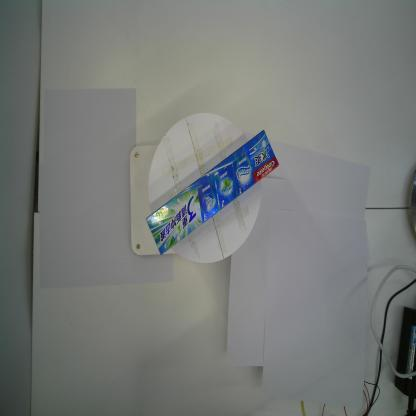Personal Hygiene: (144, 126, 282, 257)
